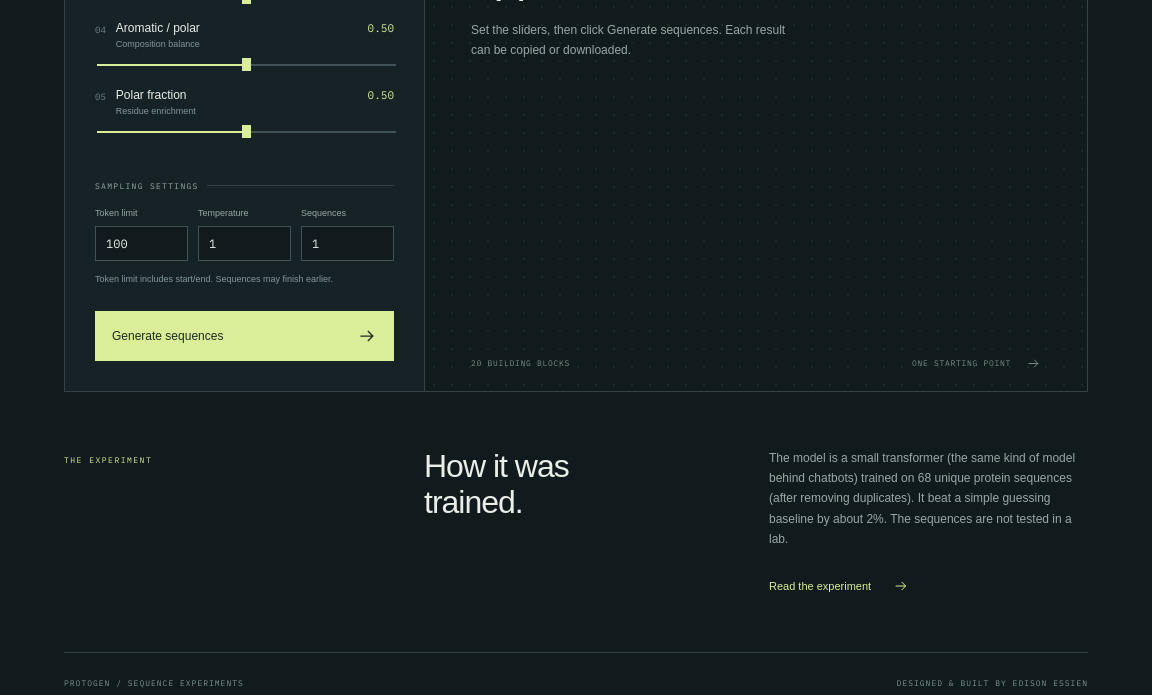
Test: shows a missing-model error and allows retry
(page scrolled)
Step 1. Click the button "Generate sequences" → click(168, 336), box [95,311,394,361]
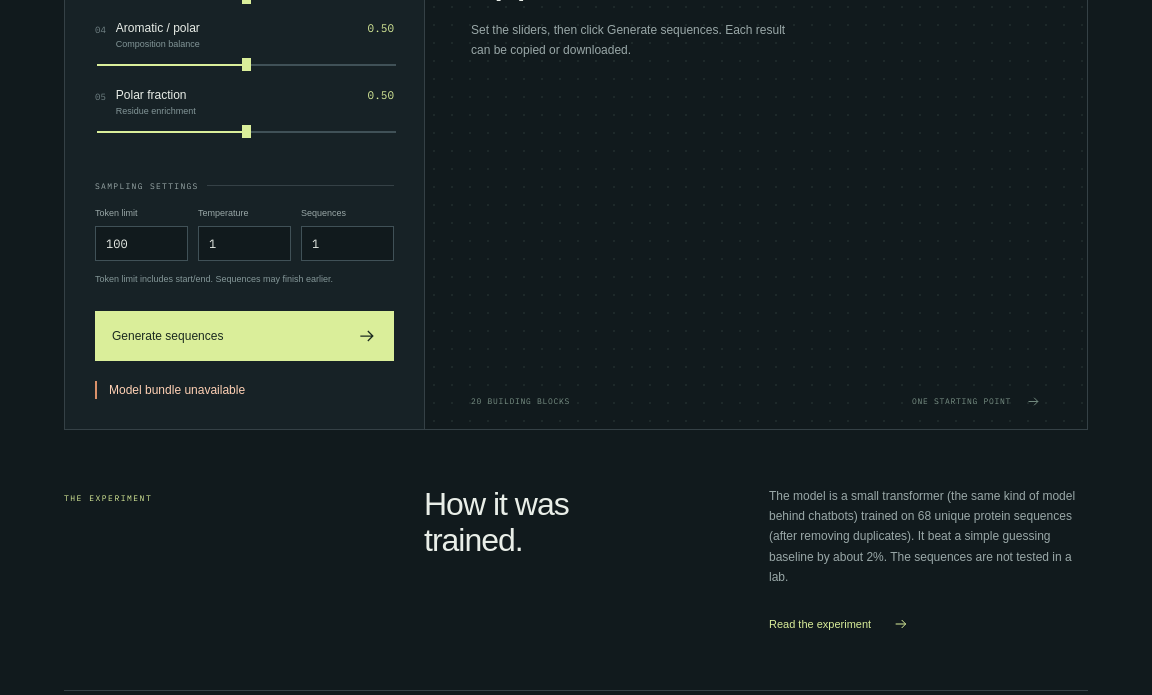
Result: the message reads "Model bundle unavailable" at [109,383,245,397]
